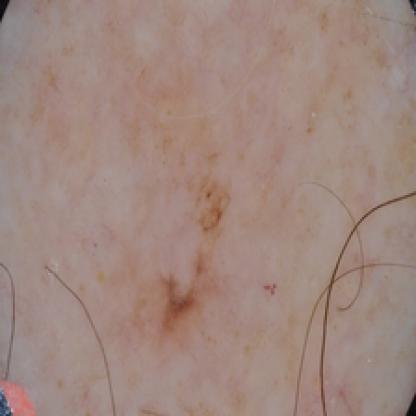malignant: (121, 178, 240, 331)
